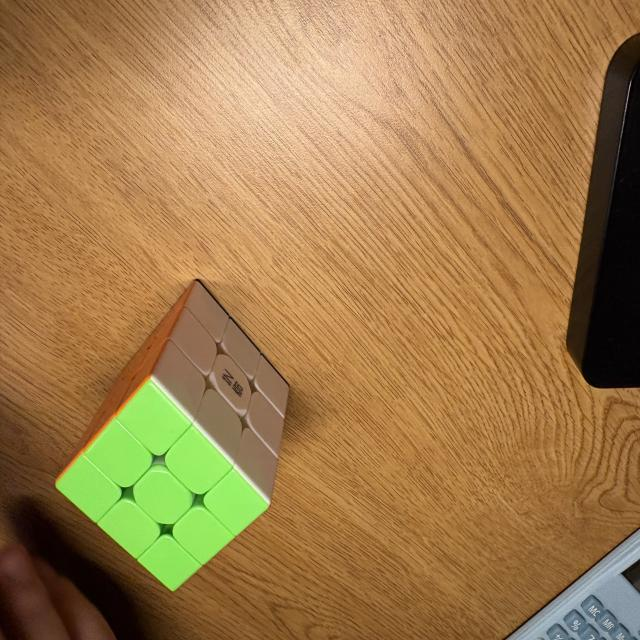Rubiks Cube: (53, 282, 289, 595)
